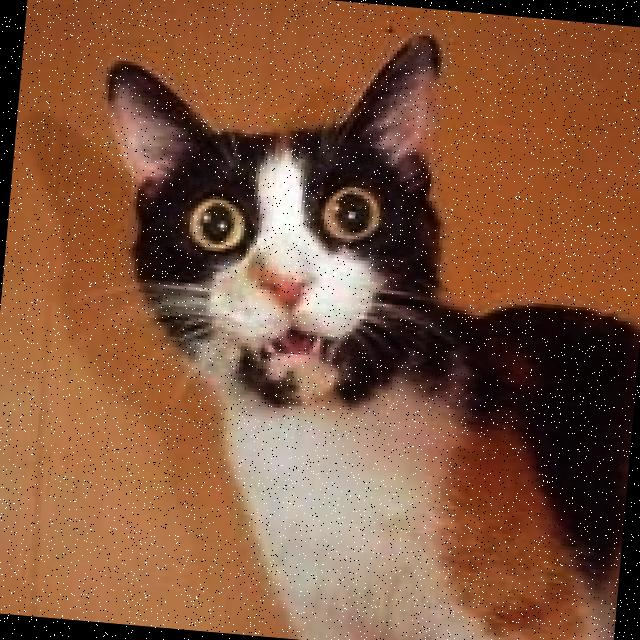Surprised: (138, 162, 420, 416)
